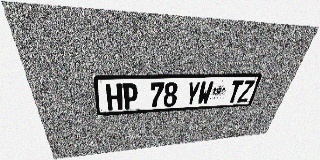7: (149, 82, 164, 108)
8: (163, 82, 179, 107)
H: (105, 83, 123, 110)
P: (122, 83, 138, 109)
T: (226, 80, 244, 103)
W: (197, 81, 214, 105)
Y: (184, 81, 201, 106)
Z: (237, 80, 255, 102)
